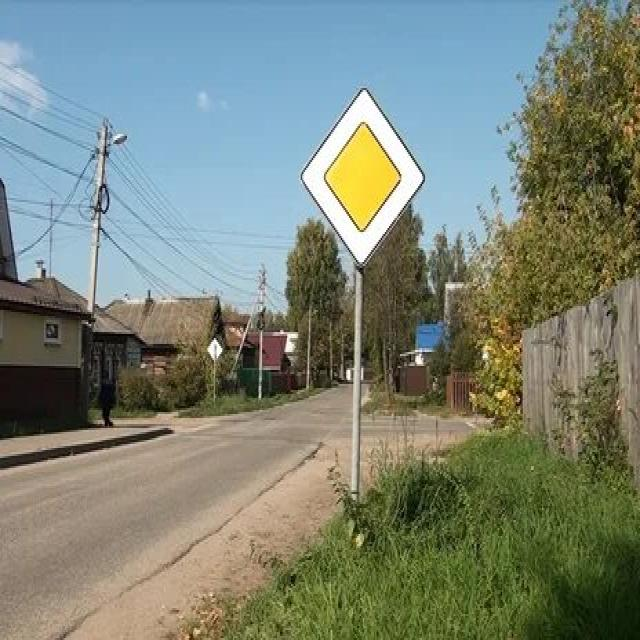signs: (297, 85, 429, 271)
